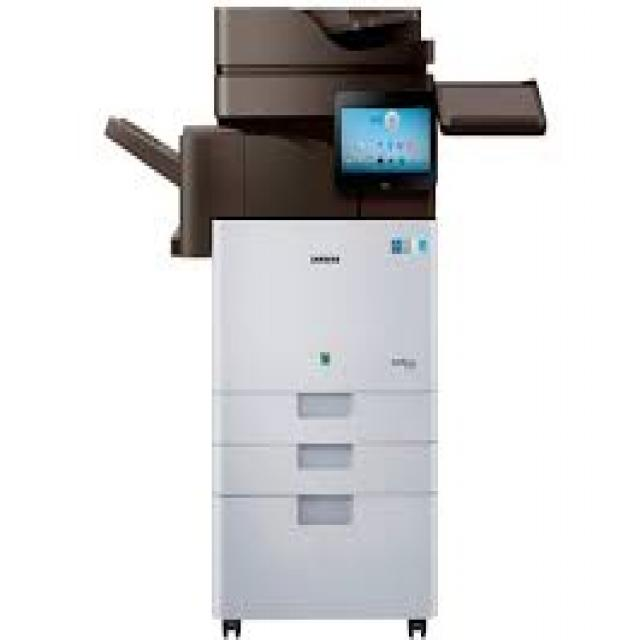printer: (101, 1, 532, 618)
